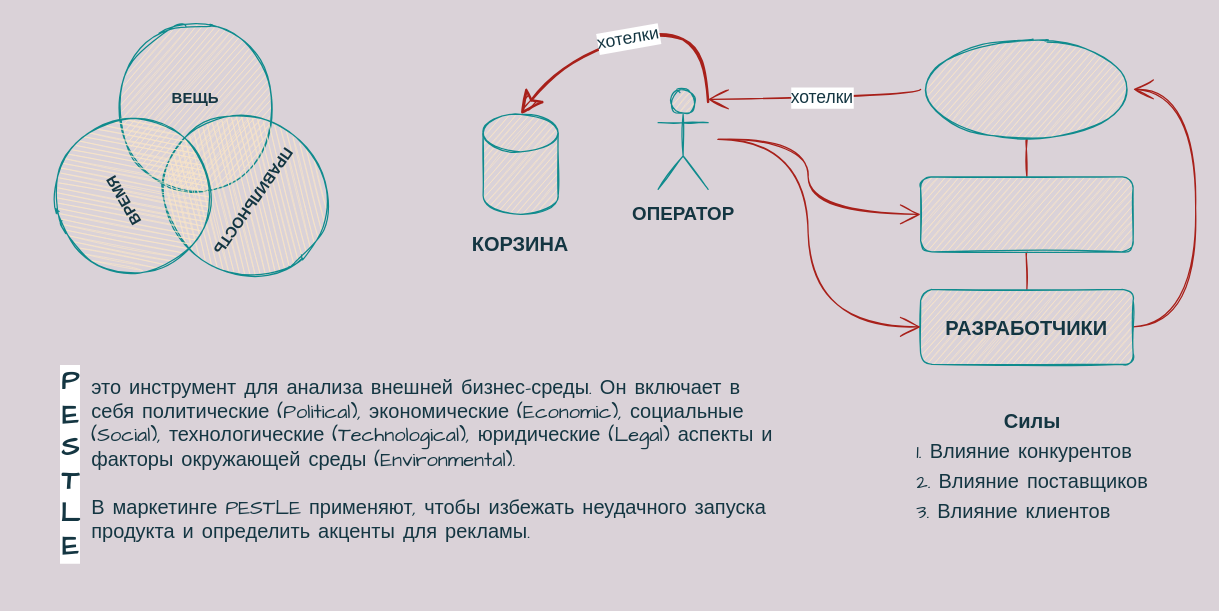
This 1219x611 diagram has some shape labels left out. Each missing label, with the centre of its shape:
"ЗАИНТЕРЕСОВАННЫЕ ЛИЦА" belongs at point (1026, 88).
"СООБЩЕСТВО ФОРУМ" belongs at point (1026, 214).
